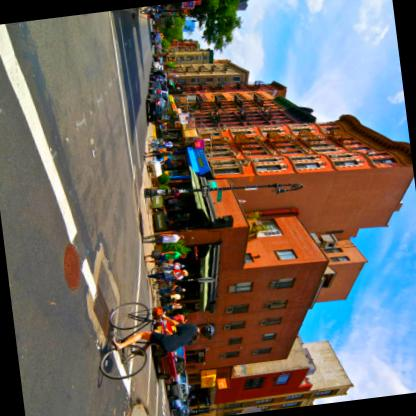manholes: (47, 235, 87, 294), (127, 176, 144, 215)
